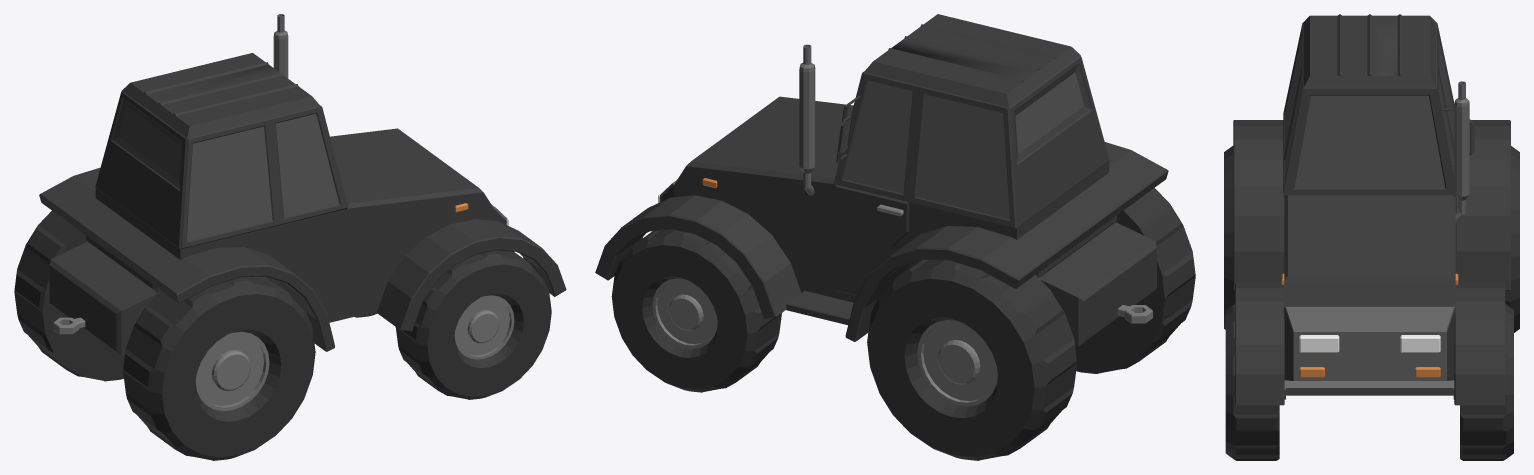
File: tractor-a01.glb
3 renders of one model, left to right at view 1: azimuth 30°, elevation 25°; view 2: azimuth 150°, elevation 25°; view 3: azimuth 270°, elevation 25°, orthographic. The views are drawn at different scales.
Visible parts, largest first — view 1: tractor_a01_001; view 2: tractor_a01_001; view 3: tractor_a01_001.
Part boxes in pixels (x1=…): tractor_a01_001: x1=14, y1=14, x2=566, y2=460; tractor_a01_001: x1=595, y1=14, x2=1195, y2=460; tractor_a01_001: x1=1224, y1=14, x2=1519, y2=460.
Size of the model in its own units: 5.2 by 3.62 by 2.98.
2 materials, 2 textured.
